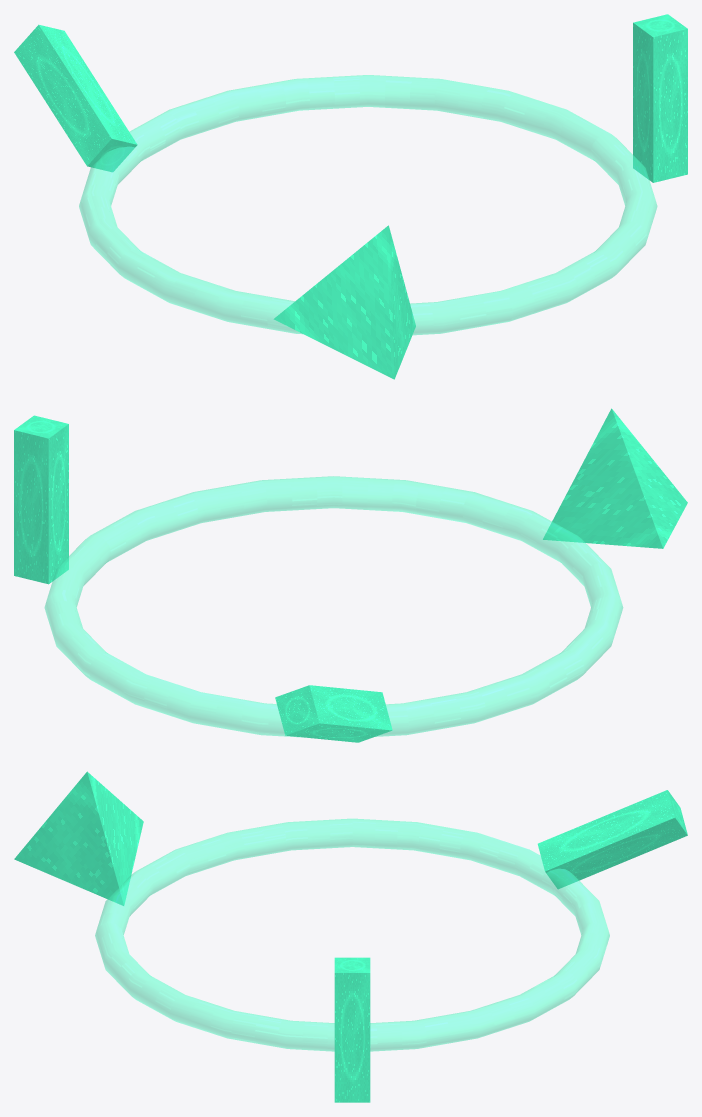
The model's file is story-marker-green.glb.
3 views of the same model, one above another, from view 1: azimuth 30°, elevation 25°; view 2: azimuth 150°, elevation 25°; view 3: azimuth 270°, elevation 25° (orthographic). The views are drawn at different scales.
Visible parts, largest first — view 1: story-marker-green-transparent|#5edeb9|#5edeb9|0.38|1|0.04|0, story-marker-green-body; view 2: story-marker-green-transparent|#5edeb9|#5edeb9|0.38|1|0.04|0, story-marker-green-body; view 3: story-marker-green-transparent|#5edeb9|#5edeb9|0.38|1|0.04|0, story-marker-green-body.
Part boxes in pixels (box(x1,y1,x2,y2)): story-marker-green-transparent|#5edeb9|#5edeb9|0.38|1|0.04|0: box(79, 75, 657, 335); story-marker-green-body: box(14, 14, 687, 379); story-marker-green-transparent|#5edeb9|#5edeb9|0.38|1|0.04|0: box(44, 476, 623, 737); story-marker-green-body: box(14, 408, 687, 742); story-marker-green-transparent|#5edeb9|#5edeb9|0.38|1|0.04|0: box(95, 818, 609, 1051); story-marker-green-body: box(14, 771, 687, 1102).
Bounding box in the file's own units: 0.805 × 0.2171 × 0.942.
2 materials, 2 textured.
